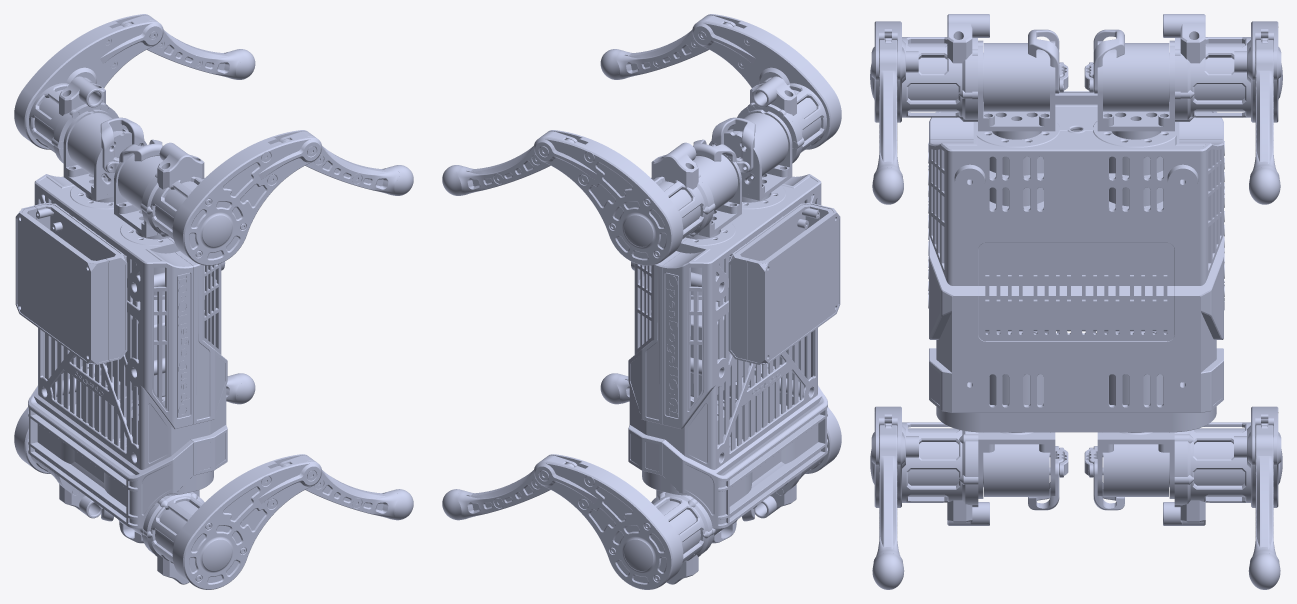
Rendered from opendoge.glb.
3 views of the same model, side by side, from view 1: azimuth 30°, elevation 25°; view 2: azimuth 150°, elevation 25°; view 3: azimuth 270°, elevation 25° (orthographic). The views are drawn at different scales.
Parts seen in each view (by area): view 1: NAUO356, NAUO360, NAUO93, NAUO212, NAUO347, NAUO45, NAUO339, NAUO220, NAUO81, NAUO250, NAUO260, NAUO284 (+20 smaller); view 2: NAUO356, NAUO360, NAUO19, NAUO178, NAUO347, NAUO81, NAUO339, NAUO150, NAUO45, NAUO259, NAUO254, NAUO267 (+20 smaller); view 3: NAUO347, NAUO341, NAUO220, NAUO150, NAUO81, NAUO45, NAUO311, NAUO288, NAUO335, NAUO324, NAUO356, NAUO227 (+48 smaller).
Part boxes in pixels (x1,y1,x2,y2): NAUO356: [28, 174, 193, 528]; NAUO360: [15, 205, 108, 364]; NAUO93: [177, 136, 321, 265]; NAUO212: [177, 460, 321, 589]; NAUO347: [69, 237, 227, 492]; NAUO45: [19, 20, 163, 163]; NAUO339: [34, 202, 127, 361]; NAUO220: [143, 454, 308, 579]; NAUO81: [143, 130, 307, 255]; NAUO250: [129, 18, 240, 79]; NAUO260: [289, 134, 399, 195]; NAUO284: [289, 459, 399, 519]; NAUO356: [662, 174, 827, 528]; NAUO360: [747, 205, 840, 364]; NAUO19: [534, 136, 678, 265]; NAUO178: [534, 460, 678, 589]; NAUO347: [628, 237, 786, 492]; NAUO81: [692, 20, 836, 163]; NAUO339: [728, 202, 821, 361]; NAUO150: [547, 454, 712, 579]; NAUO45: [548, 130, 712, 255]; NAUO259: [615, 18, 726, 79]; NAUO254: [456, 134, 566, 195]; NAUO267: [456, 459, 566, 519]; NAUO347: [929, 128, 1223, 432]; NAUO341: [985, 249, 1167, 331]; NAUO220: [888, 406, 972, 511]; NAUO150: [1180, 406, 1264, 511]; NAUO81: [888, 21, 972, 122]; NAUO45: [1180, 21, 1264, 122]; NAUO311: [983, 43, 1049, 111]; NAUO288: [1103, 43, 1169, 111]; NAUO335: [984, 444, 1049, 496]; NAUO324: [1103, 444, 1168, 496]; NAUO356: [929, 104, 1223, 333]; NAUO227: [908, 428, 958, 496].
Bounding box in the file's own units: 0.2573 × 0.3929 × 0.2768.
